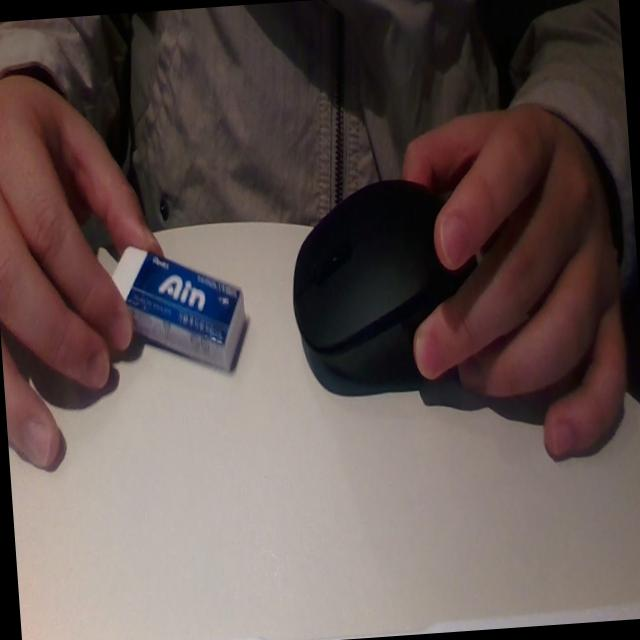eraser: (95, 233, 248, 373)
grab_eraser: (0, 70, 260, 481)
grab_mouse: (277, 91, 634, 482)
hand: (398, 88, 623, 441), (0, 44, 174, 476)
mouse: (274, 176, 484, 393)
